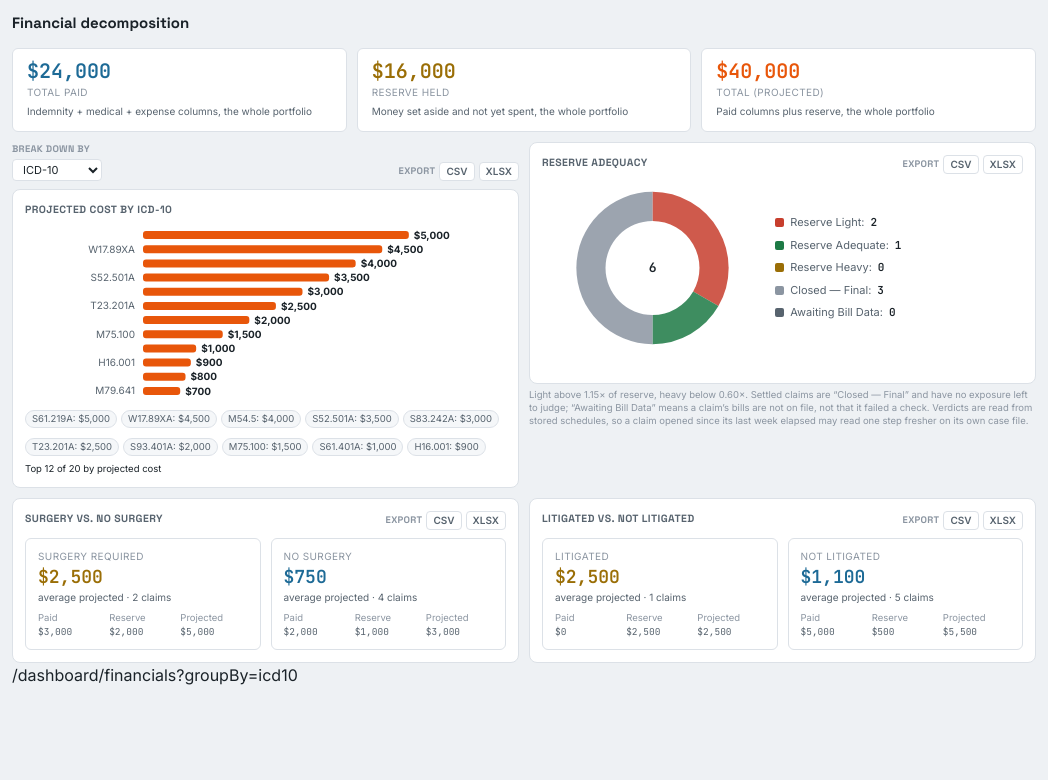
Scenario: a group's drill target follows the grouping it was drawn under
Click the button with test id "financial-breakdown-bars-value-link" at (71, 419), box [25,410,117,428]
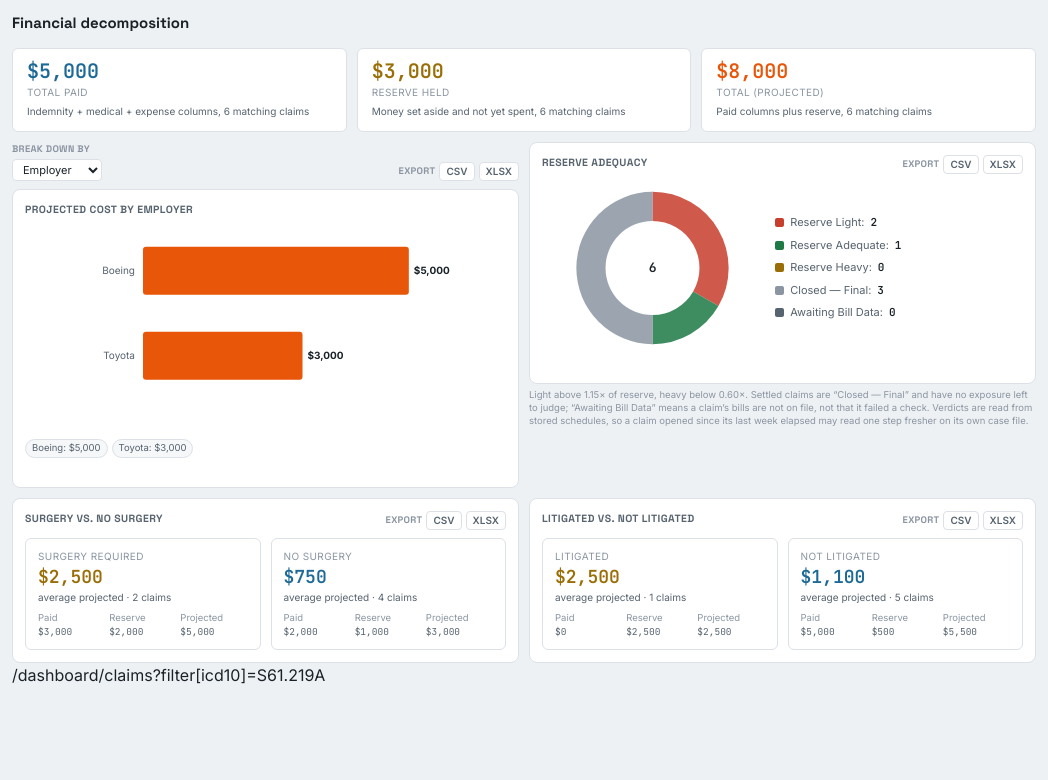
Now the text with test id "location" reads "/dashboard/claims?filter[icd10]=S61.219A", box [12,665,325,685]
